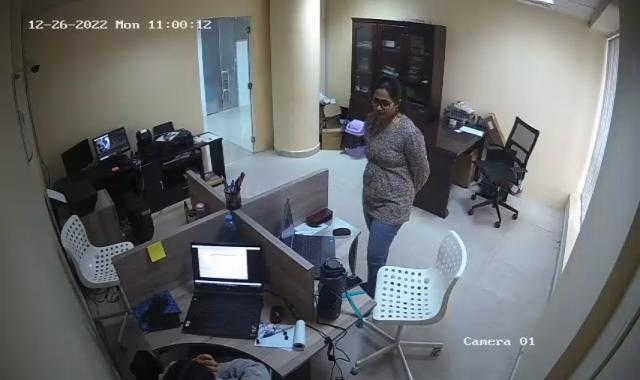no_hairnet: (369, 78, 402, 124)
